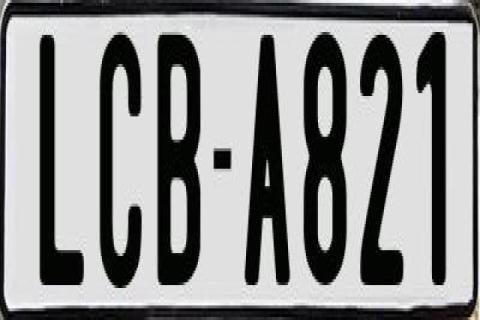0: (360, 35, 410, 294), (302, 23, 350, 276), (412, 27, 448, 286)
A: (244, 35, 294, 291)
B: (158, 27, 200, 280)
C: (100, 26, 148, 291)
L: (40, 32, 84, 282)
